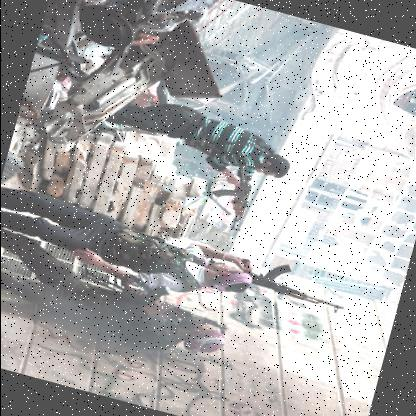rifle: (184, 237, 351, 312), (81, 264, 232, 338), (198, 154, 264, 235)
